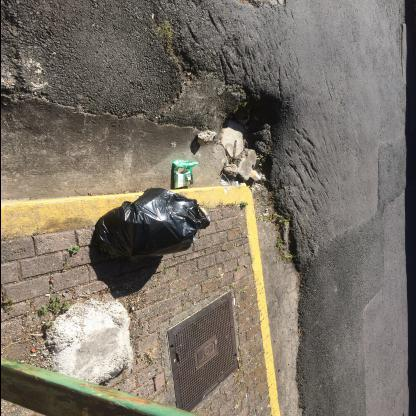plastik: (95, 188, 211, 258), (172, 161, 198, 190)
